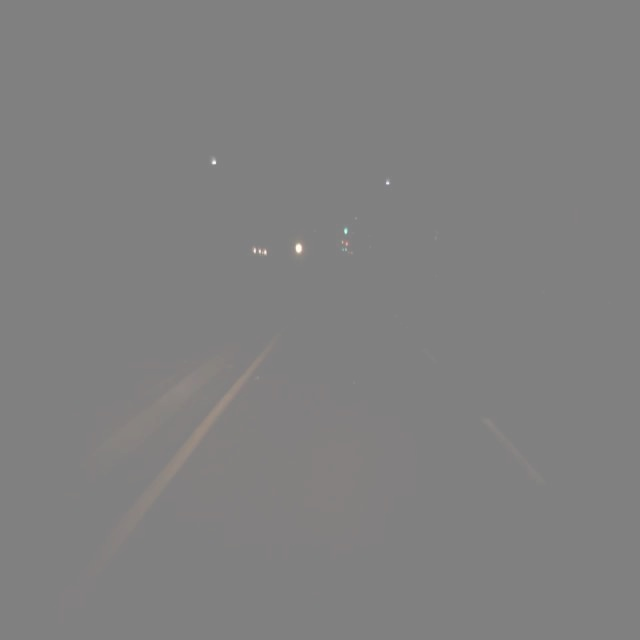go: (345, 229, 347, 232)
go traffic light: (344, 226, 348, 233)
